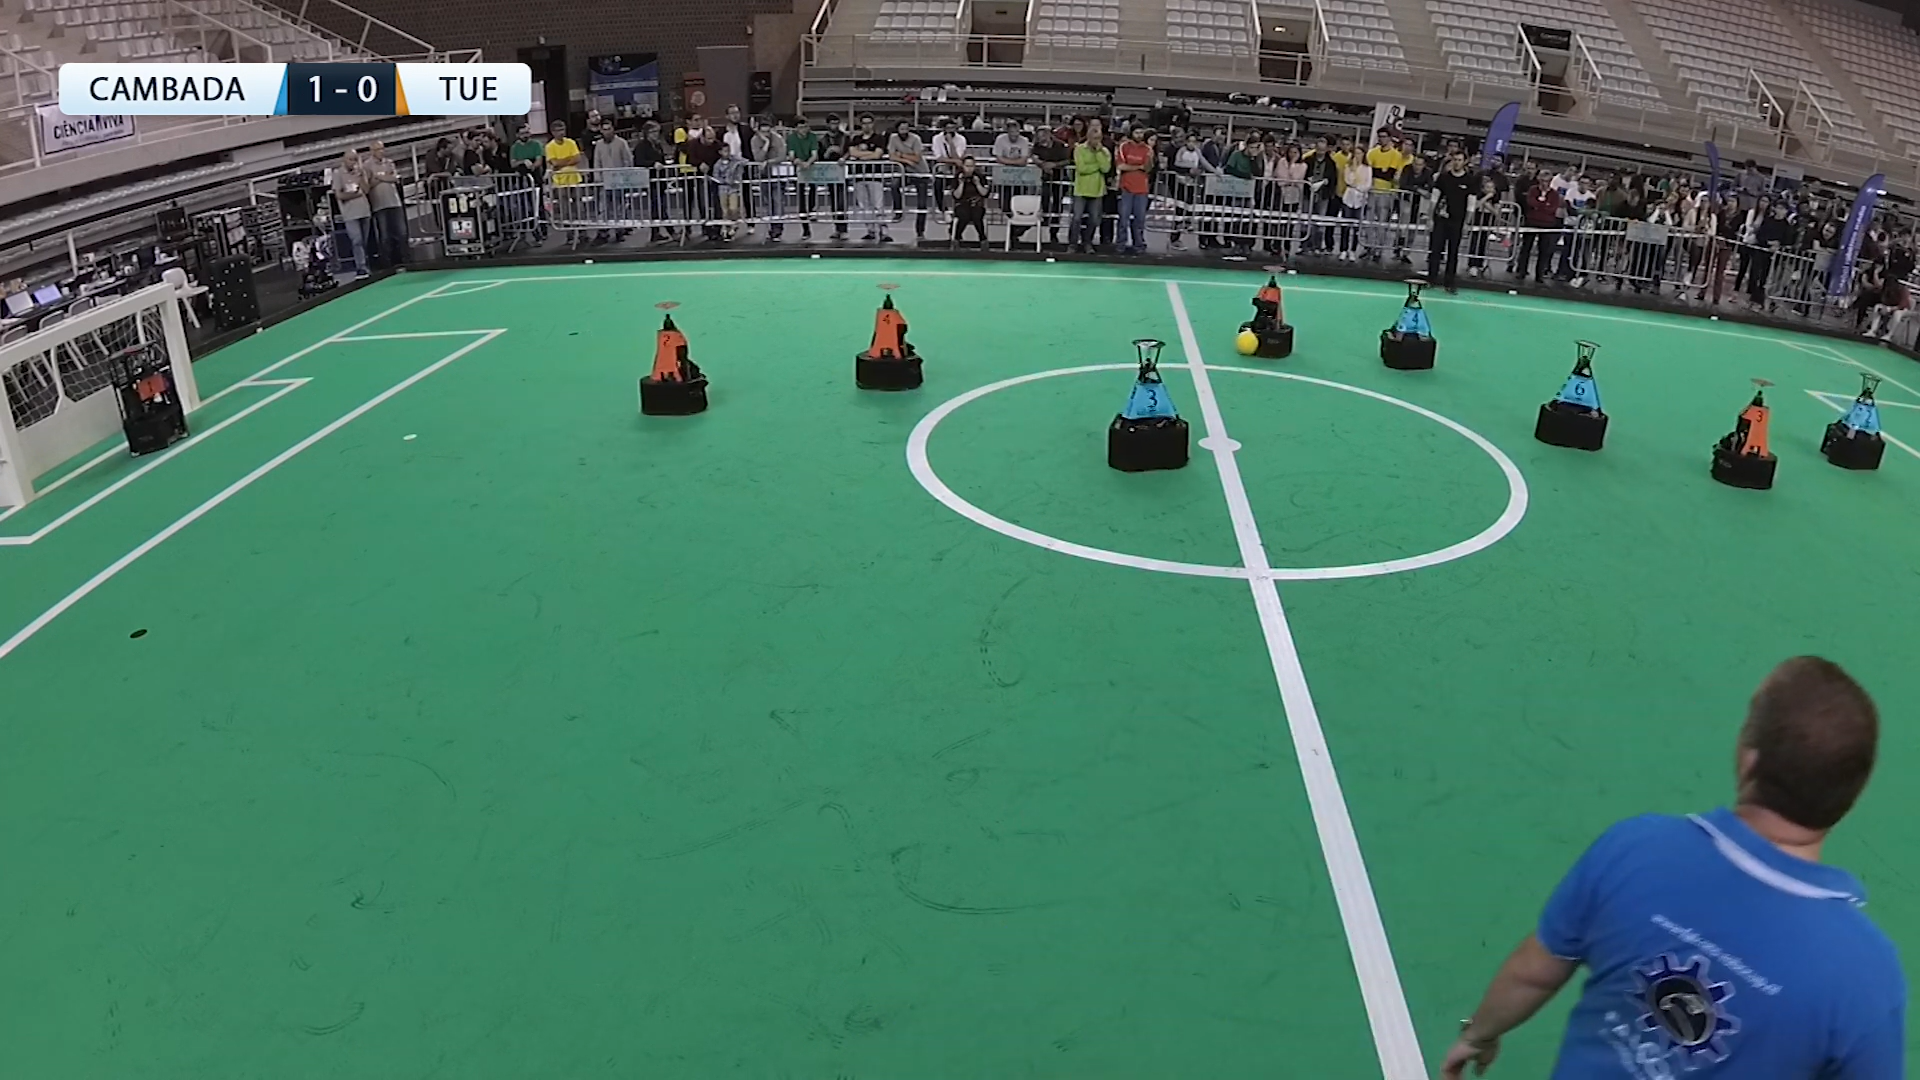BALL: (1229, 328, 1262, 360)
BLUE2: (1833, 367, 1888, 469)
BLUE3: (1109, 338, 1193, 476), (1724, 381, 1779, 492), (1247, 260, 1288, 327)
BLUE4: (1375, 273, 1441, 369)
BLUE6: (1544, 336, 1605, 450)
RED2: (647, 301, 691, 406)
RED4: (866, 286, 909, 396)
R_Goalie: (111, 349, 185, 440)
Referee: (1443, 645, 1920, 1080)
